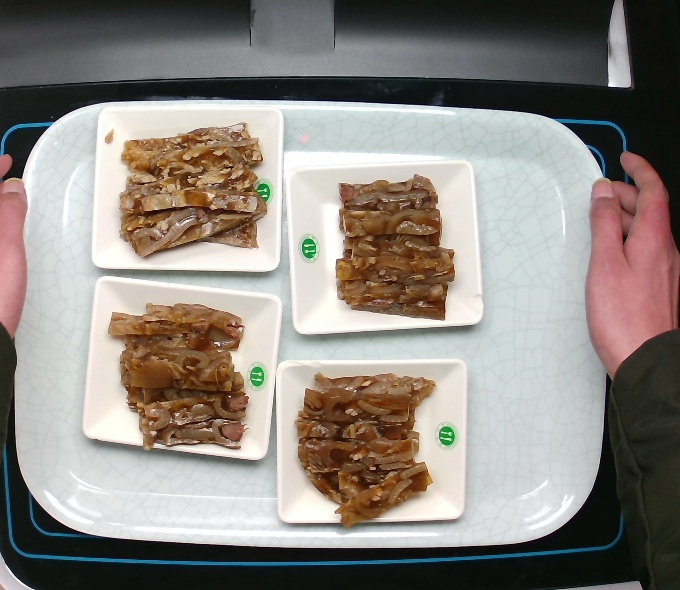wcq-DongZhuPi: (100, 299, 253, 457), (115, 118, 267, 260), (298, 375, 438, 529), (328, 172, 465, 323)
